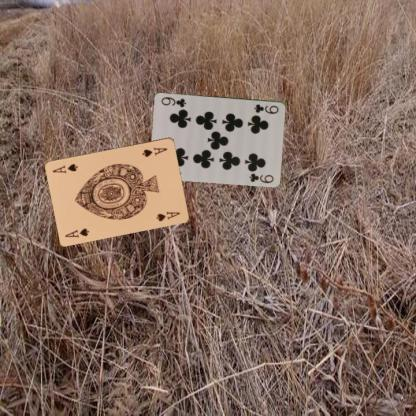9c: (252, 101, 280, 115)
As: (140, 144, 169, 158), (62, 225, 91, 239)
